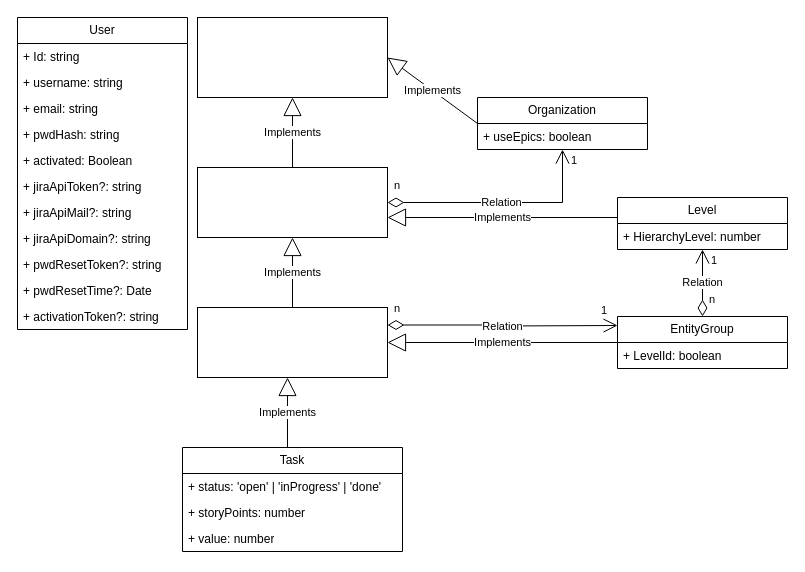
Some shapes in this 805 by 572 pixel diagram are drawn without their labels. Here are the shapes that lost their labels. From the top down, the centre of each, then its label:
At point 292,57: "<<Interface>> IEntity + Id: String + Name: String".
At point 292,202: "<<Interface>> IOrganizationbasedEntity + OrganizationId: String".
At point 292,342: "<<Interface>> ILinkableEntity + entityGroupIds: String[]".
